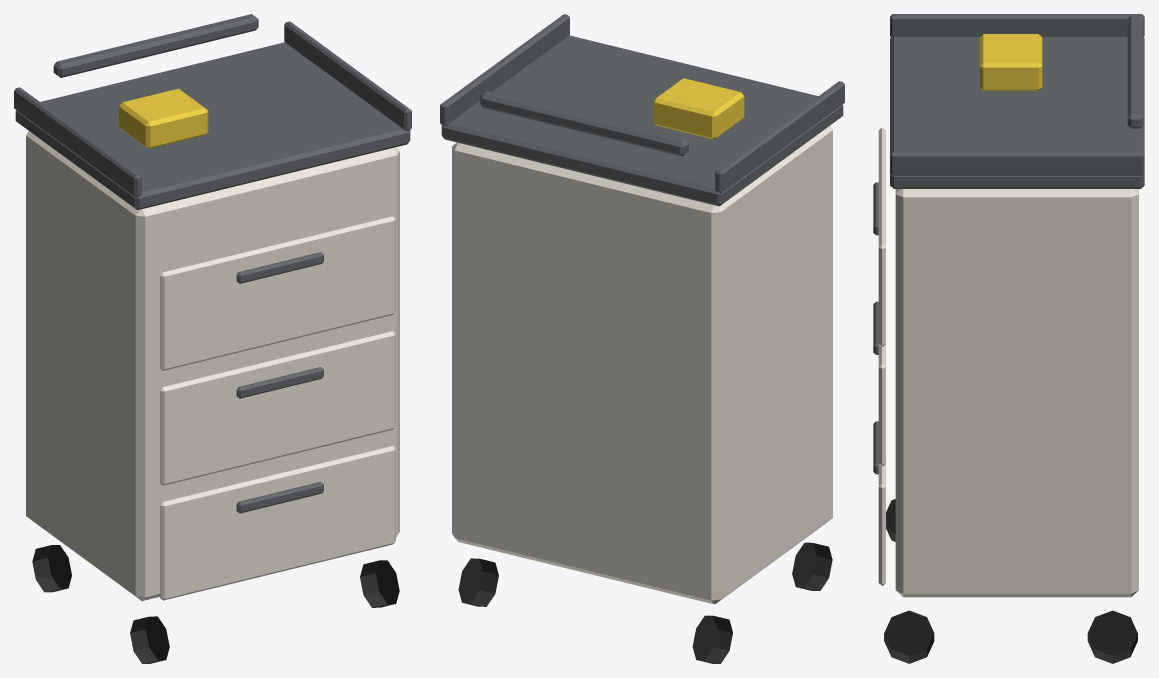
File: trolley.glb
The picture shows the model from 3 angles, left to right: view 1: azimuth 30°, elevation 25°; view 2: azimuth 150°, elevation 25°; view 3: azimuth 270°, elevation 25°; orthographic projection. The views are drawn at different scales.
Parts seen in each view (by area): view 1: trolley; view 2: trolley; view 3: trolley.
Boxes of the visible parts, x1,y1,x2,y2 form: trolley: (14,14,411,663); trolley: (440,14,844,663); trolley: (873,14,1144,663).
Bounding box in the file's own units: 0.532 × 0.9425 × 0.4315.
